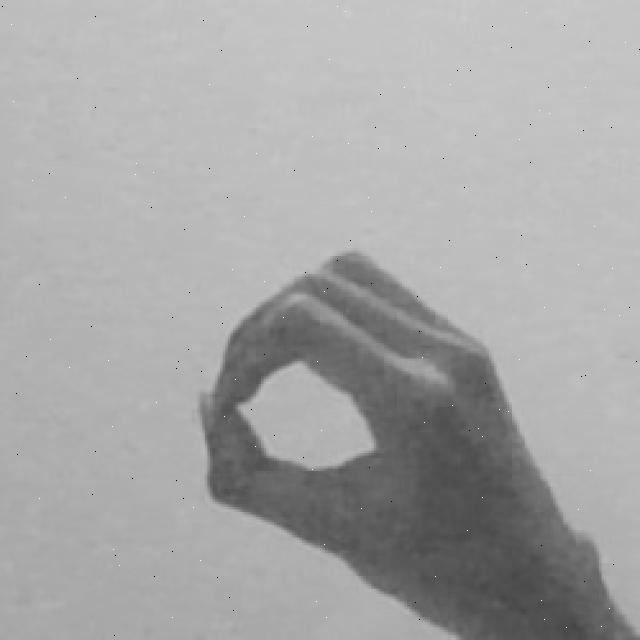O: (192, 246, 640, 640)
